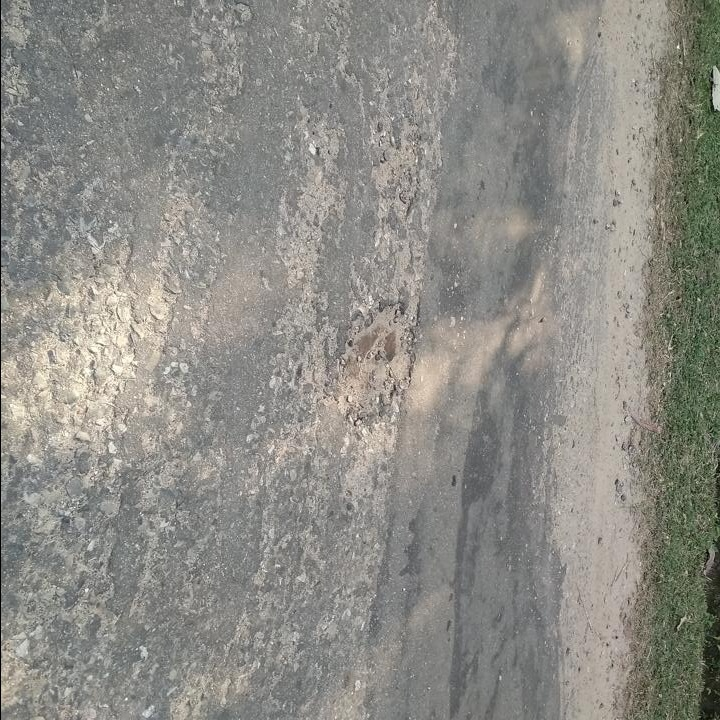pothole: (333, 295, 424, 424)
